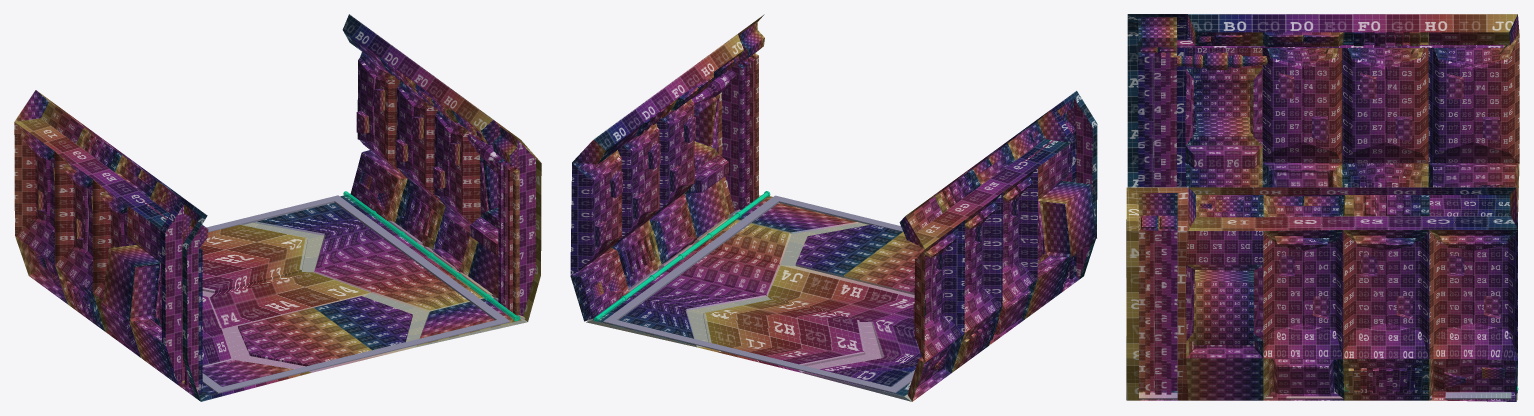
File: SetUVunfinished.fbx
The picture shows the model from 3 angles, left to right: view 1: azimuth 30°, elevation 25°; view 2: azimuth 150°, elevation 25°; view 3: azimuth 270°, elevation 25°; orthographic projection. The views are drawn at different scales.
Parts seen in each view (by area): view 1: Floor, wallL, WallRFlip, grate, pCylinder2, polySurface1; view 2: Floor, wallL, WallRFlip, grate, pCylinder2, polySurface1; view 3: WallRFlip, wallL, Floor, polySurface2, wallTube.
Part boxes in pixels (<box>): Floor: <box>101,195,527,401</box>; wallL: <box>14,90,208,401</box>; WallRFlip: <box>342,14,541,321</box>; grate: <box>202,195,510,393</box>; pCylinder2: <box>343,191,519,321</box>; polySurface1: <box>467,133,502,166</box>; Floor: <box>586,195,924,401</box>; wallL: <box>899,90,1097,401</box>; WallRFlip: <box>570,14,764,321</box>; grate: <box>603,195,914,393</box>; pCylinder2: <box>594,191,770,321</box>; polySurface1: <box>692,70,736,104</box>; WallRFlip: <box>1126,187,1517,401</box>; wallL: <box>1127,14,1519,218</box>; Floor: <box>1126,219,1517,400</box>; polySurface2: <box>1177,52,1267,69</box>; wallTube: <box>1177,40,1507,47</box>.
Size of the model in its own units: 19.12 by 8.19 by 13.92.
4 materials, 2 textured.
